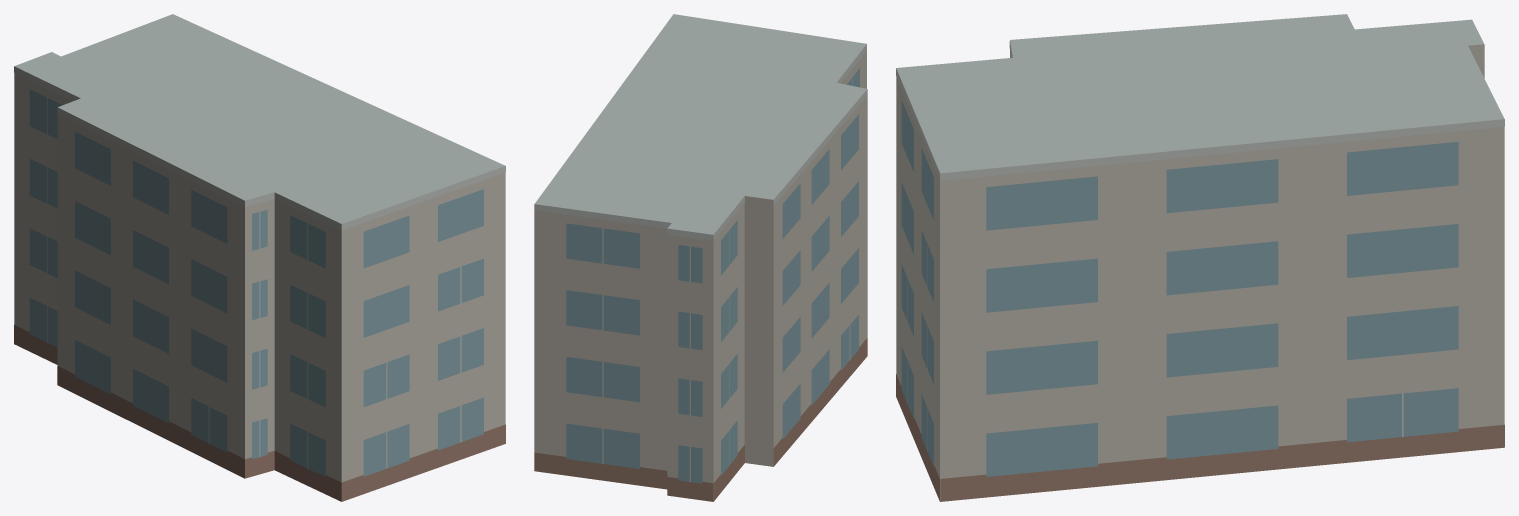
The model's file is survey-upis-32714834.glb.
The picture shows the model from 3 angles, left to right: view 1: azimuth 30°, elevation 25°; view 2: azimuth 150°, elevation 25°; view 3: azimuth 270°, elevation 25°; orthographic projection. The views are drawn at different scales.
Visible parts, largest first — view 1: survey-upis-32714834.tmp; view 2: survey-upis-32714834.tmp; view 3: survey-upis-32714834.tmp.
Part boxes in pixels (<box>): survey-upis-32714834.tmp: <box>14,14,505,501</box>; survey-upis-32714834.tmp: <box>534,14,867,501</box>; survey-upis-32714834.tmp: <box>896,14,1504,501</box>.
Bounding box in the file's own units: 10.93 × 10.5 × 17.64.
